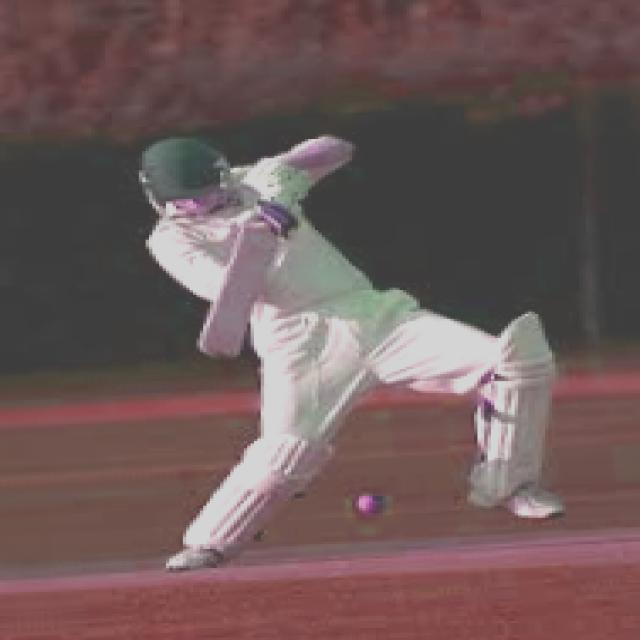bat: (193, 216, 278, 368)
toe: (196, 344, 242, 362)
